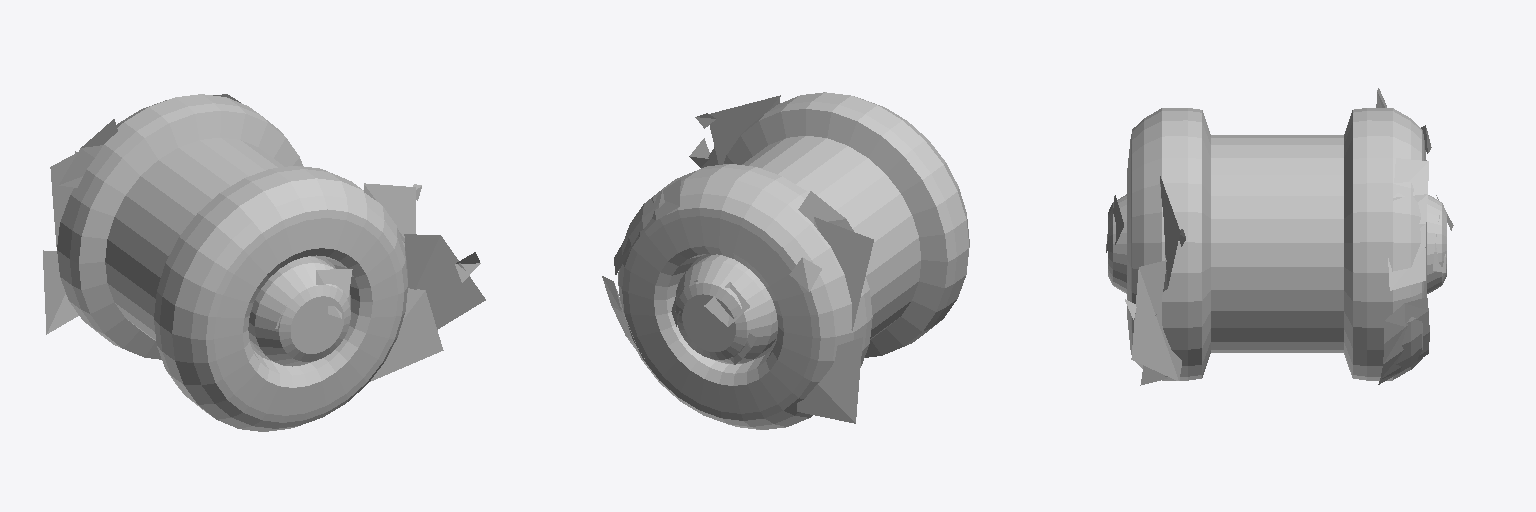
File: Painted Caliper Center.obj
The picture shows the model from 3 angles: view 1: azimuth 30°, elevation 25°; view 2: azimuth 150°, elevation 25°; view 3: azimuth 270°, elevation 25°; orthographic projection.
Visible parts, largest first — view 1: center_Plane.040; view 2: center_Plane.040; view 3: center_Plane.040.
Part boxes in pixels (left/top/right/bottom): center_Plane.040: left=43, top=94, right=485, bottom=431; center_Plane.040: left=602, top=92, right=969, bottom=429; center_Plane.040: left=1106, top=88, right=1453, bottom=385.
Size of the model in its own units: 0.8133 by 0.6174 by 0.7853.